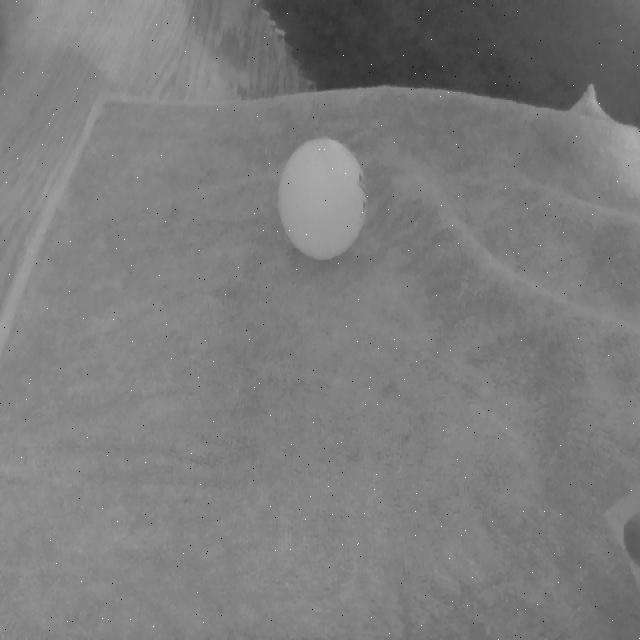ping-pong-ball: (279, 139, 367, 260)
